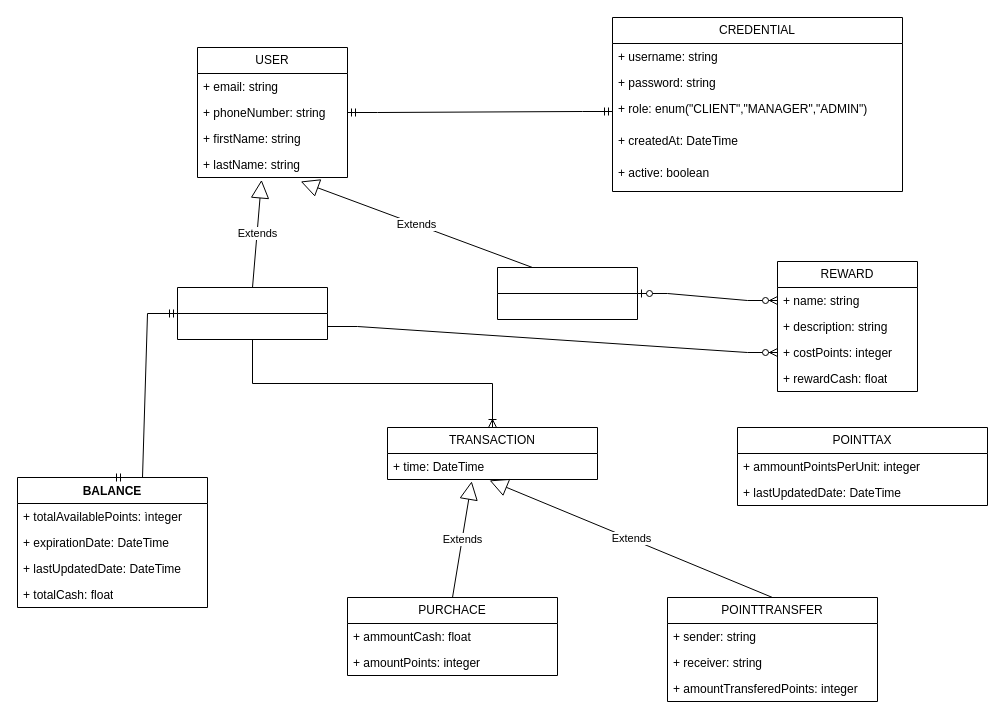
Image size: 1005x722. Some labels were removed from this diagram. The shapes that lost their labels are listed below. From the top down, each one's centre as x and y in pixels, then its label:
At point (252, 313): "CLIENT".
At point (567, 293): "MANAGER".
